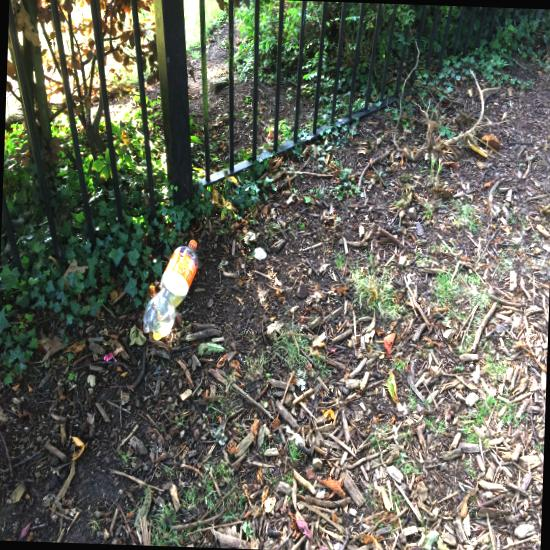Clear plastic bottle: (143, 239, 198, 341)
Other plastic: (104, 352, 117, 361)
Plastic bottle cap: (189, 239, 198, 246)
